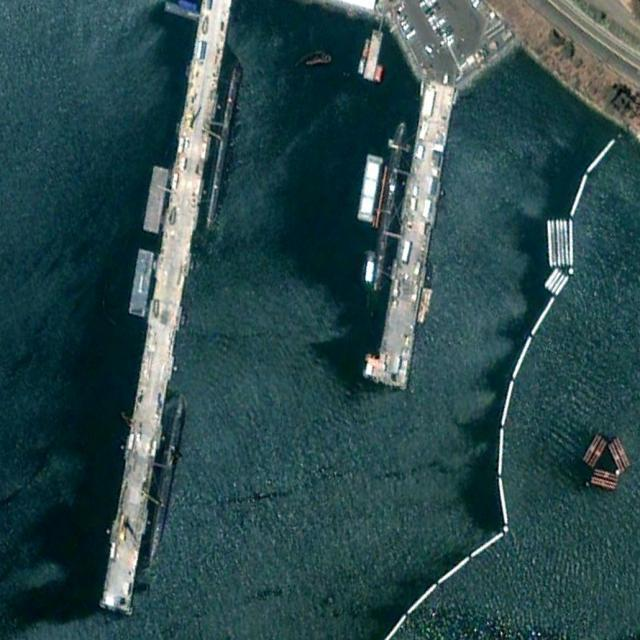Submarine: (362, 118, 412, 320), (139, 391, 188, 572), (201, 62, 244, 234)
